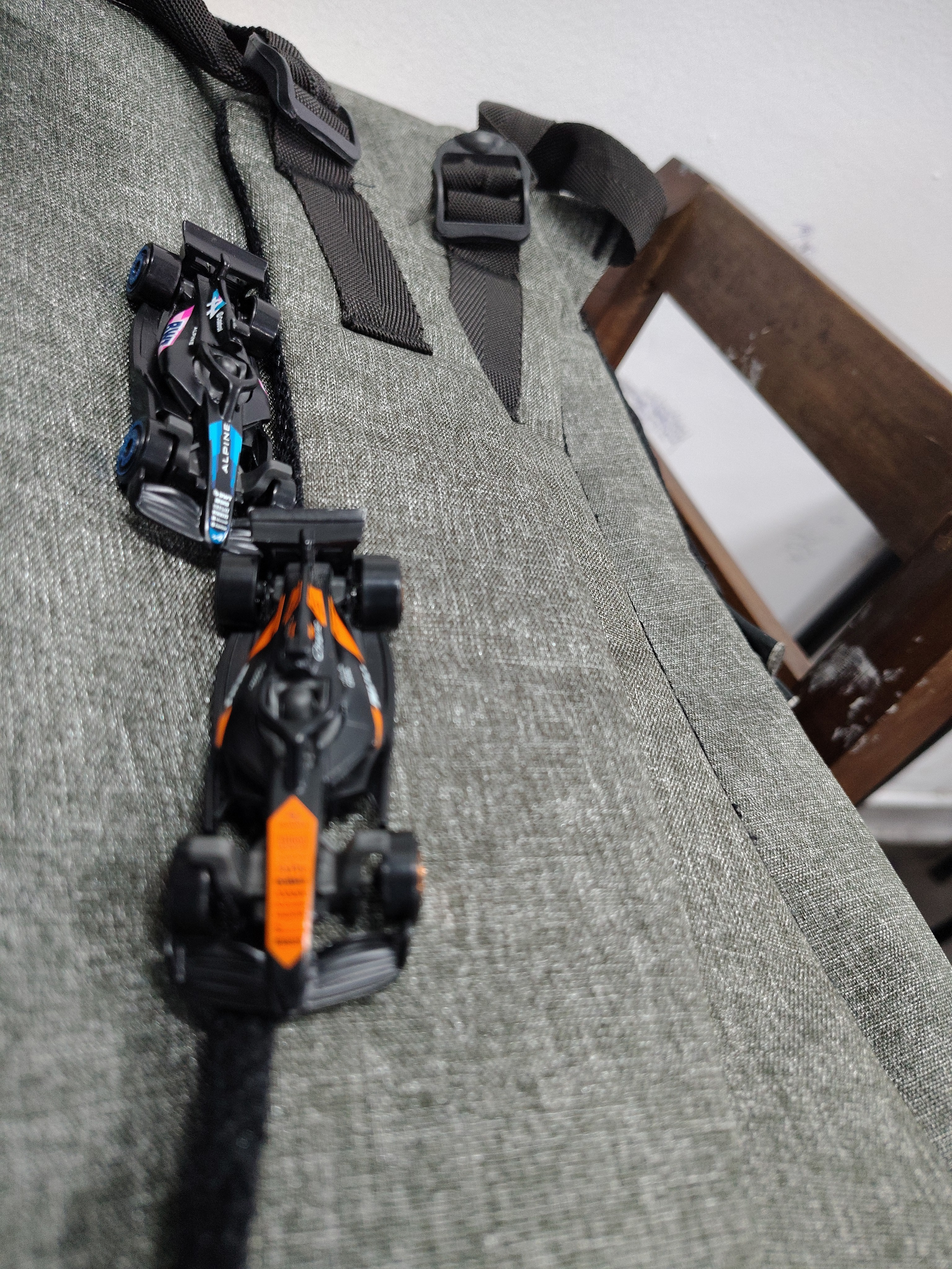Alpine A524: (104, 195, 328, 553)
McLaren MCL40: (212, 459, 406, 984)
